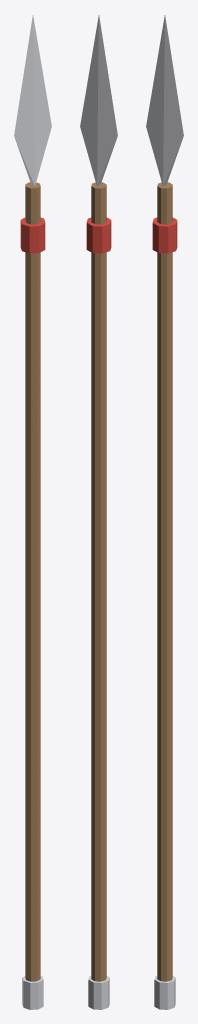
File: SM_Spear.fbx
3 views of the same model, side by side, from view 1: azimuth 30°, elevation 25°; view 2: azimuth 150°, elevation 25°; view 3: azimuth 330°, elevation 25° (orthographic).
Parts seen in each view (by area): view 1: SM_Spear; view 2: SM_Spear; view 3: SM_Spear.
Boxes of the visible parts, x1,y1,x2,y2 form: SM_Spear: (14, 15, 51, 1009); SM_Spear: (80, 15, 117, 1009); SM_Spear: (146, 15, 183, 1009).
Bounding box in the file's own units: 0.044 × 1.1 × 0.026.
